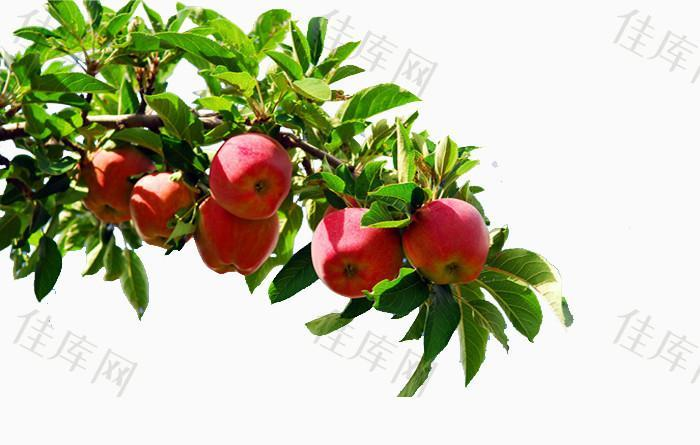apple: (194, 135, 295, 280), (310, 209, 407, 300), (402, 198, 489, 288), (206, 133, 292, 220), (195, 196, 276, 277), (129, 168, 201, 250), (84, 143, 159, 218)
